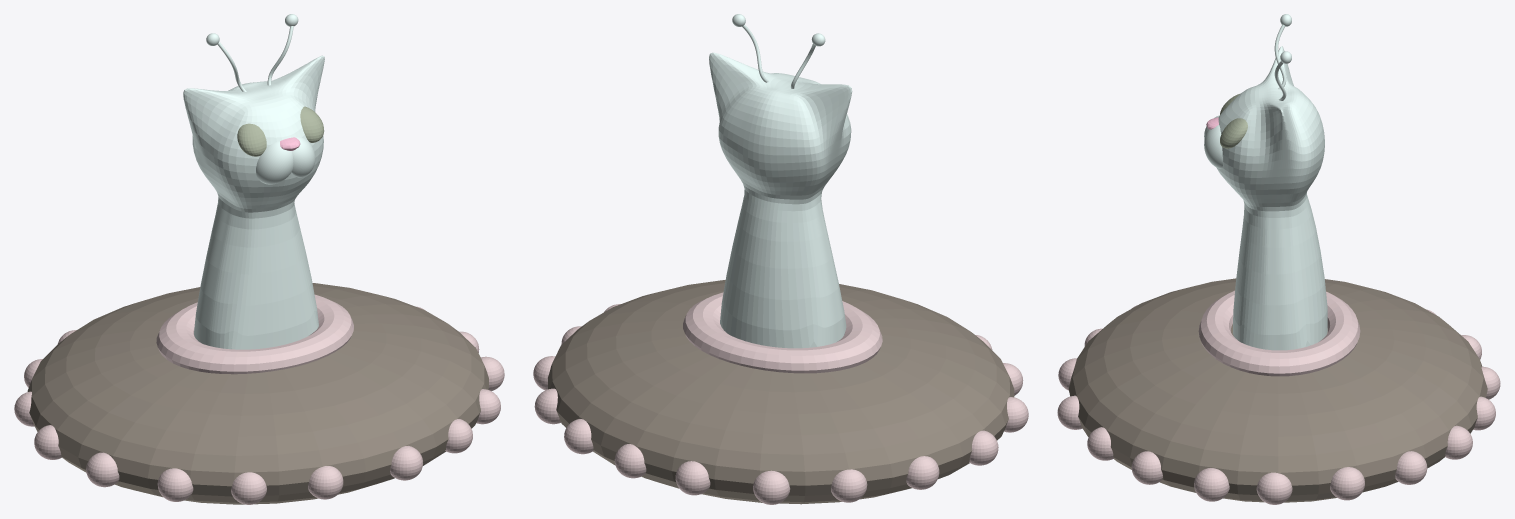
File: cat_blue.fbx
3 views of the same model, side by side, from view 1: azimuth 30°, elevation 25°; view 2: azimuth 150°, elevation 25°; view 3: azimuth 270°, elevation 25° (orthographic). The views are drawn at different scales.
Visible parts, largest first — view 1: ship, Cube, donut, eyes, Sphere.010, Sphere.012, Sphere.011, Sphere.001, Sphere.013, Sphere.009, Sphere.014, Sphere.015; view 2: ship, Cube, donut, Sphere.001, Sphere.006, Sphere.007, Sphere.005, Sphere.008, Sphere.004, Sphere.003, Sphere.009, Sphere.002; view 3: ship, Cube, donut, Sphere.016, Sphere.001, Sphere.017, Sphere.002, Sphere.015, Sphere.003, eyes, Sphere.014, Sphere.013 (+1 smaller).
Part boxes in pixels (x1,y1,x2,y2): ship: (27,283,488,504); Cube: (183,14,324,349); donut: (156,294,353,374); eyes: (237,106,324,156); Sphere.010: (157,468,193,501); Sphere.012: (308,466,343,499); Sphere.011: (231,472,266,504); Sphere.001: (86,306,425,487); Sphere.013: (390,446,422,480); Sphere.009: (34,425,61,459); Sphere.014: (445,419,472,453); Sphere.015: (476,389,500,424); ship: (548,280,1014,504); Cube: (709,14,852,348); donut: (683,292,882,373); Sphere.001: (533,356,1028,432); Sphere.006: (753,470,790,504); Sphere.007: (831,469,867,502); Sphere.005: (675,461,710,495); Sphere.008: (906,456,939,489); Sphere.004: (614,444,646,478); Sphere.003: (564,419,593,454); Sphere.009: (969,430,998,465); Sphere.002: (534,388,560,424); ship: (1068,278,1487,502); Cube: (1204,14,1327,350); donut: (1198,290,1360,376); Sphere.016: (1194,468,1229,501); Sphere.001: (1330,467,1364,500); Sphere.017: (1256,472,1292,504); Sphere.002: (1395,451,1427,484); Sphere.015: (1131,451,1162,484); Sphere.003: (1445,425,1472,459); eyes: (1220,93,1247,148); Sphere.014: (1087,427,1113,460); Sphere.013: (1057,395,1082,429).
Size of the model in its own units: 1064 by 1002 by 971.
